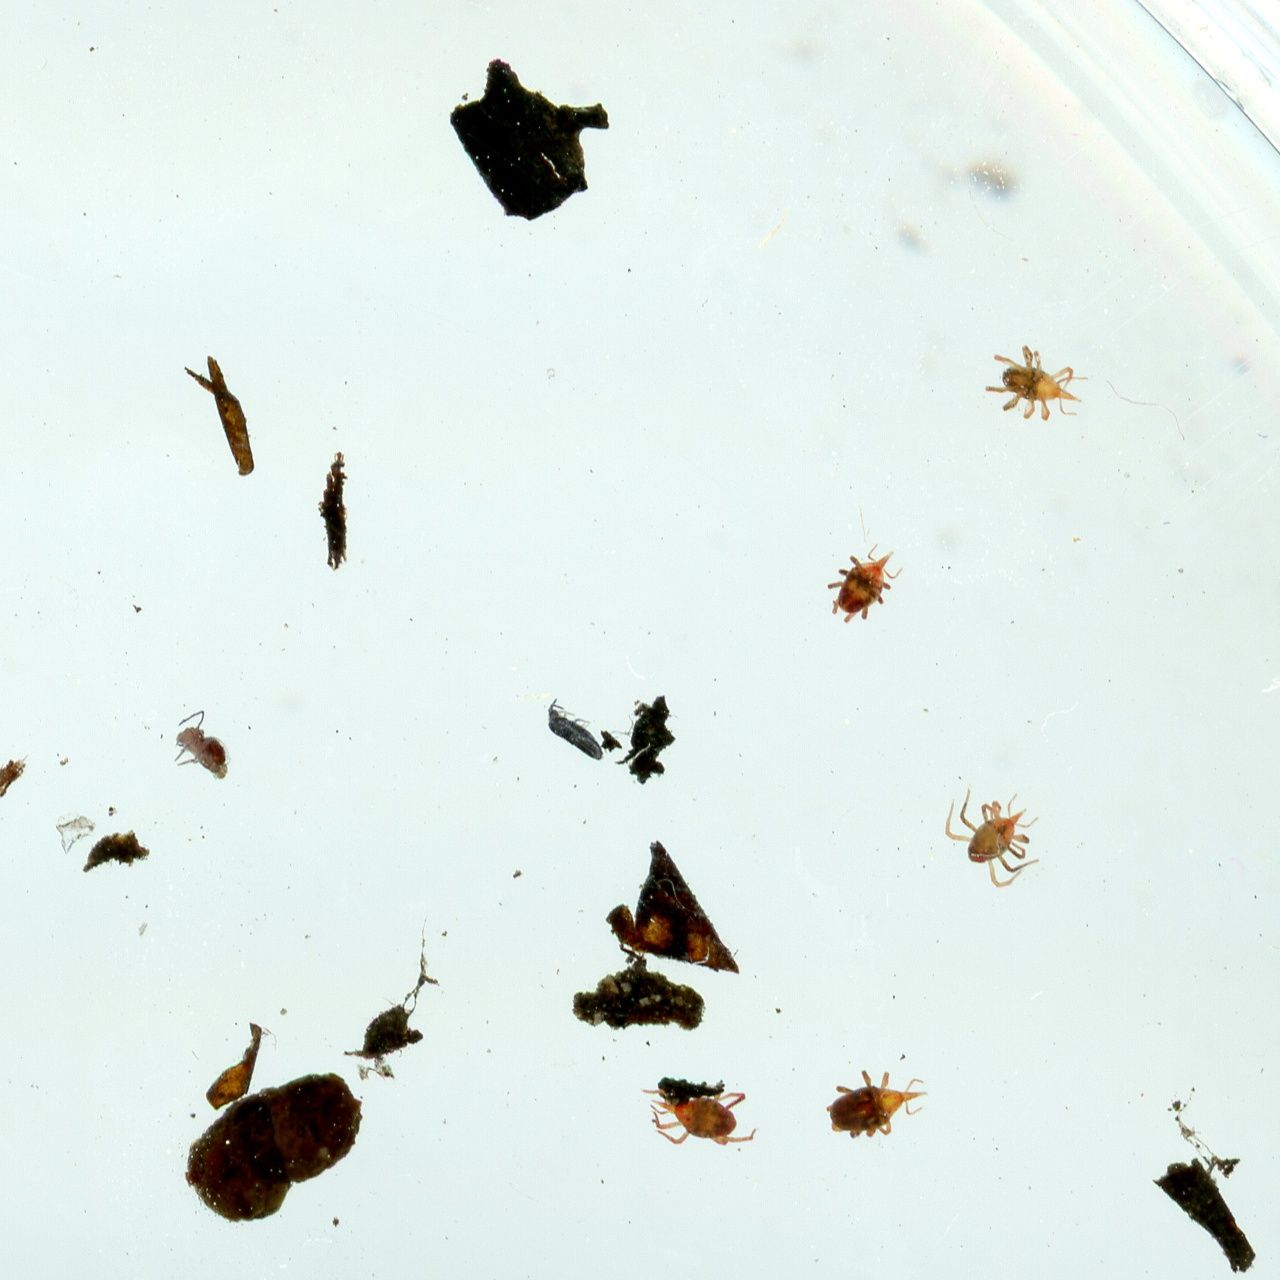arthropod: (938, 781, 1046, 893), (627, 1073, 758, 1149), (985, 341, 1088, 425), (815, 1073, 933, 1141), (830, 540, 904, 624), (169, 704, 238, 792), (545, 690, 613, 768), (987, 332, 1027, 409)
